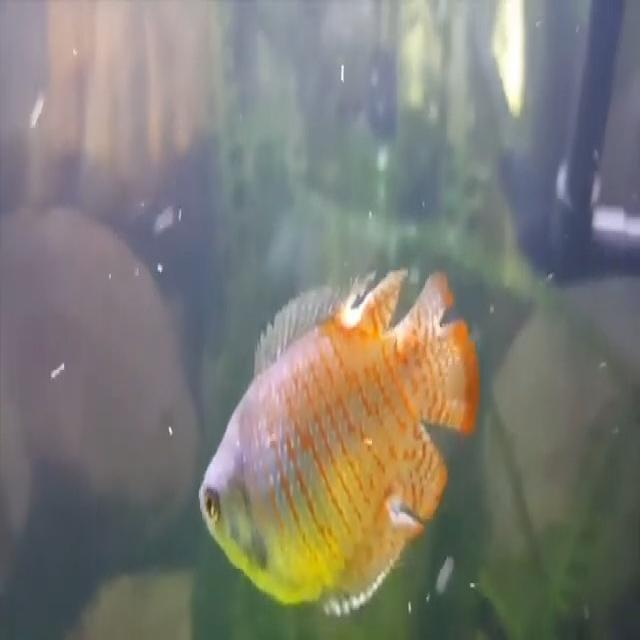fish: (196, 264, 485, 613)
